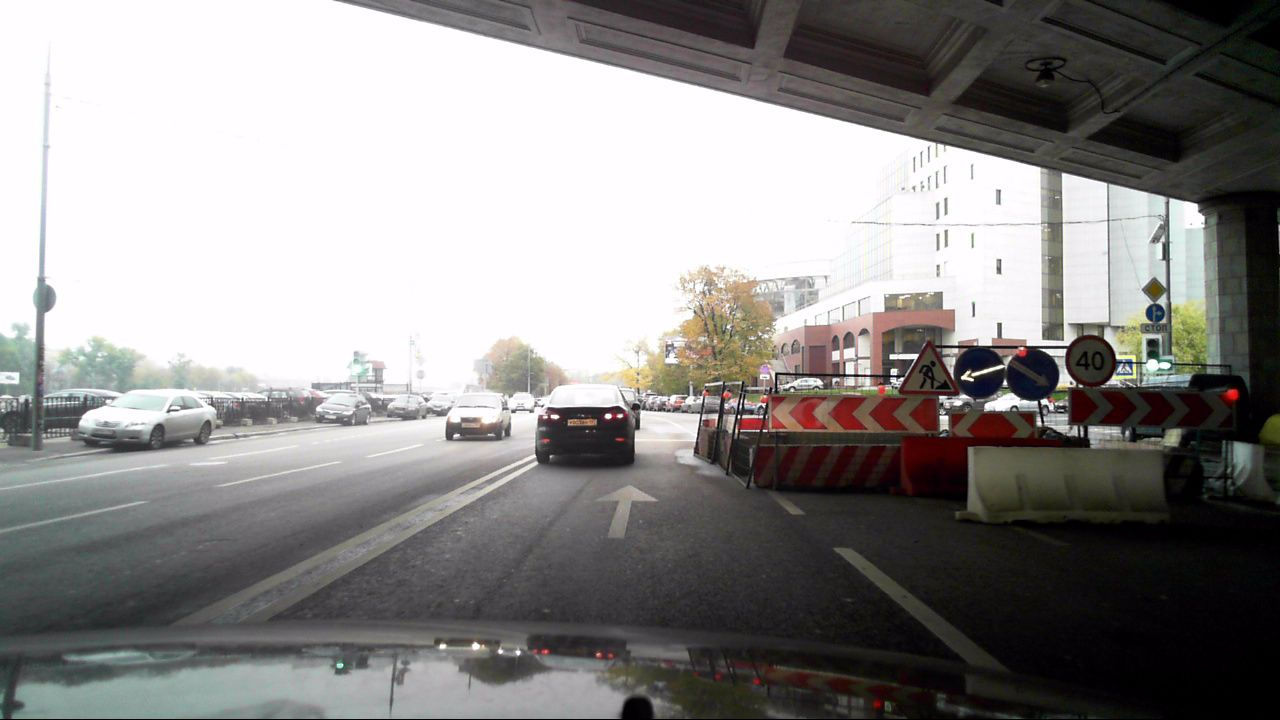speed_warning_40: (1066, 333, 1116, 387)
